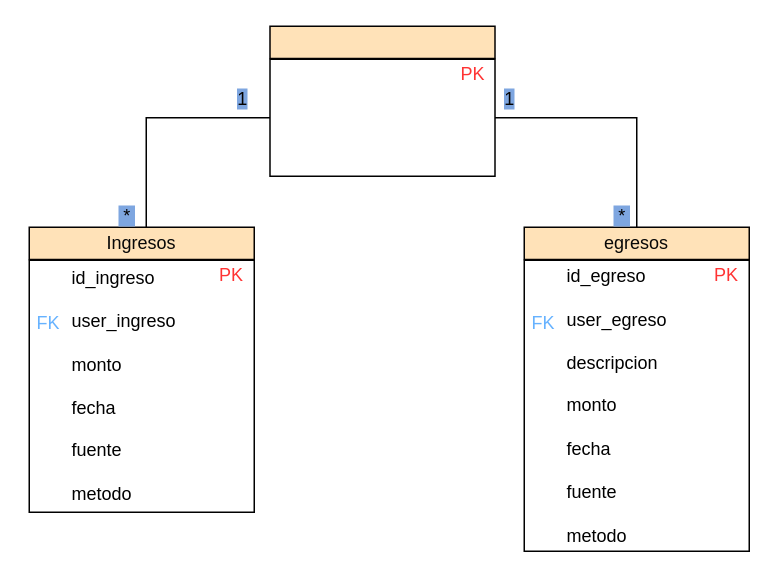
The diagram is 776 pixels wide and 578 high, and some of its shapes have lost their labels. Here are the shapes that lost their labels. From the top down, the box of each, then its label:
(268, 25, 495, 58): Usuario
(268, 58, 495, 176): userName name password
